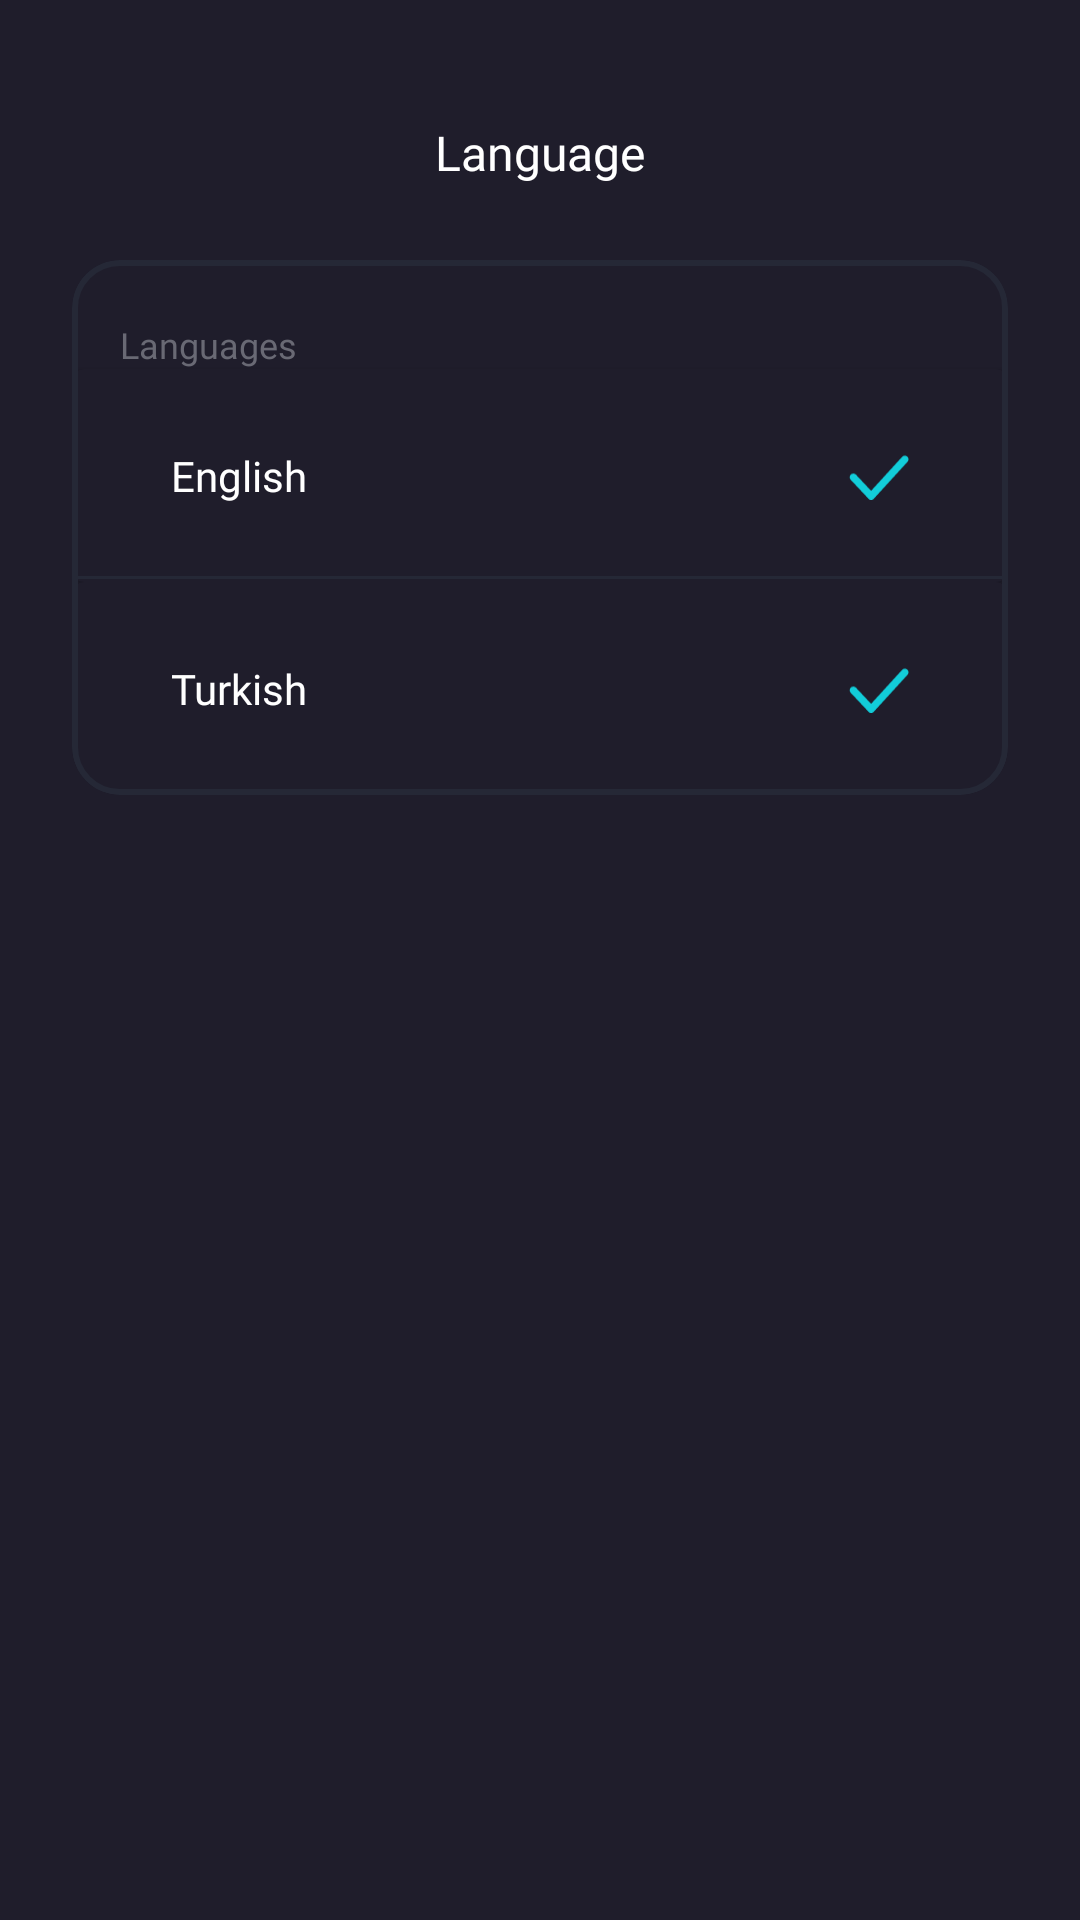

Named icons in this screenshot (1080px×1920px) and their bounding boxes, detection(x1, y1, x2, y2):
check: detection(849, 455, 909, 500), detection(849, 668, 909, 713)
